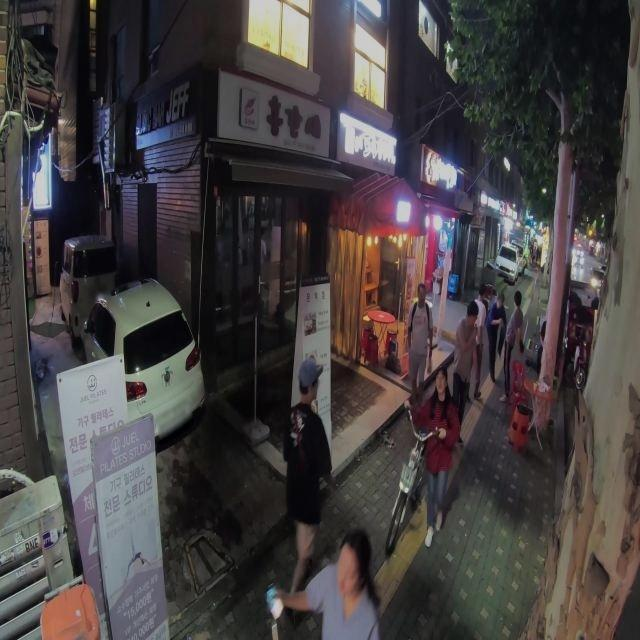fight: (502, 293, 524, 398), (485, 290, 509, 386)
non-fight: (283, 354, 333, 606), (409, 369, 462, 547), (451, 303, 481, 429), (406, 284, 434, 396), (469, 282, 493, 398)
